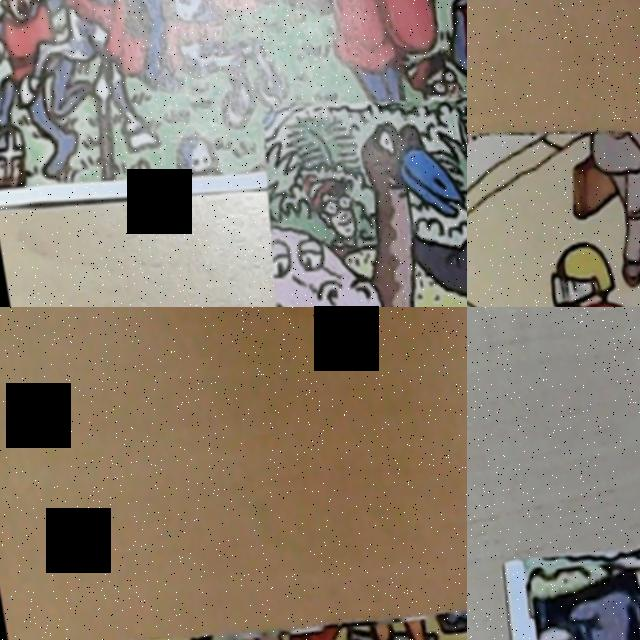waldo: (299, 164, 362, 244), (396, 41, 463, 103)
